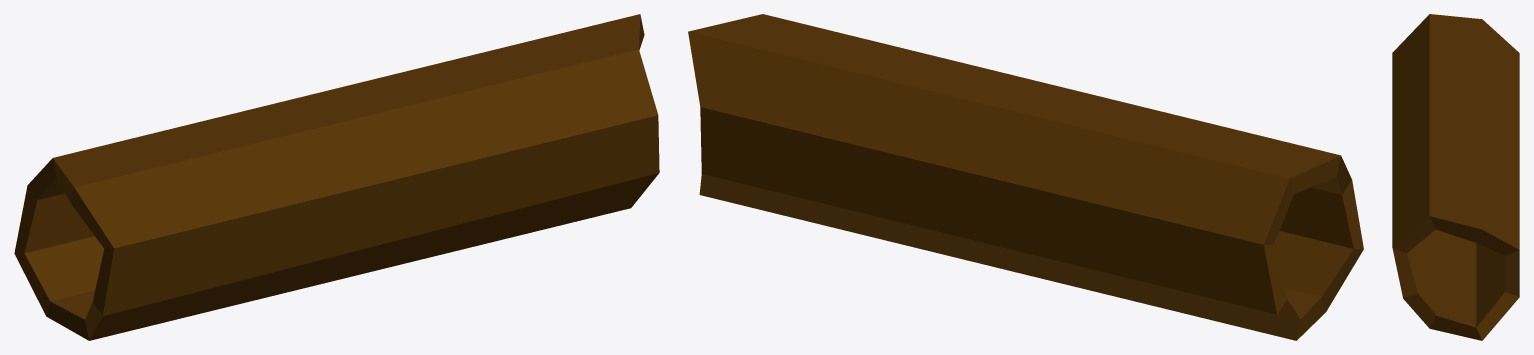
The model's file is HollowLog.fbx.
3 views of the same model, side by side, from view 1: azimuth 30°, elevation 25°; view 2: azimuth 150°, elevation 25°; view 3: azimuth 270°, elevation 25° (orthographic). The views are drawn at different scales.
Parts seen in each view (by area): view 1: Tree Log.001; view 2: Tree Log.001; view 3: Tree Log.001.
Boxes of the visible parts, x1=… form: Tree Log.001: x1=14, y1=14, x2=659, y2=340; Tree Log.001: x1=688, y1=14, x2=1363, y2=340; Tree Log.001: x1=1392, y1=14, x2=1519, y2=340.
Bounding box in the file's own units: 7.42 × 1.85 × 1.85.
